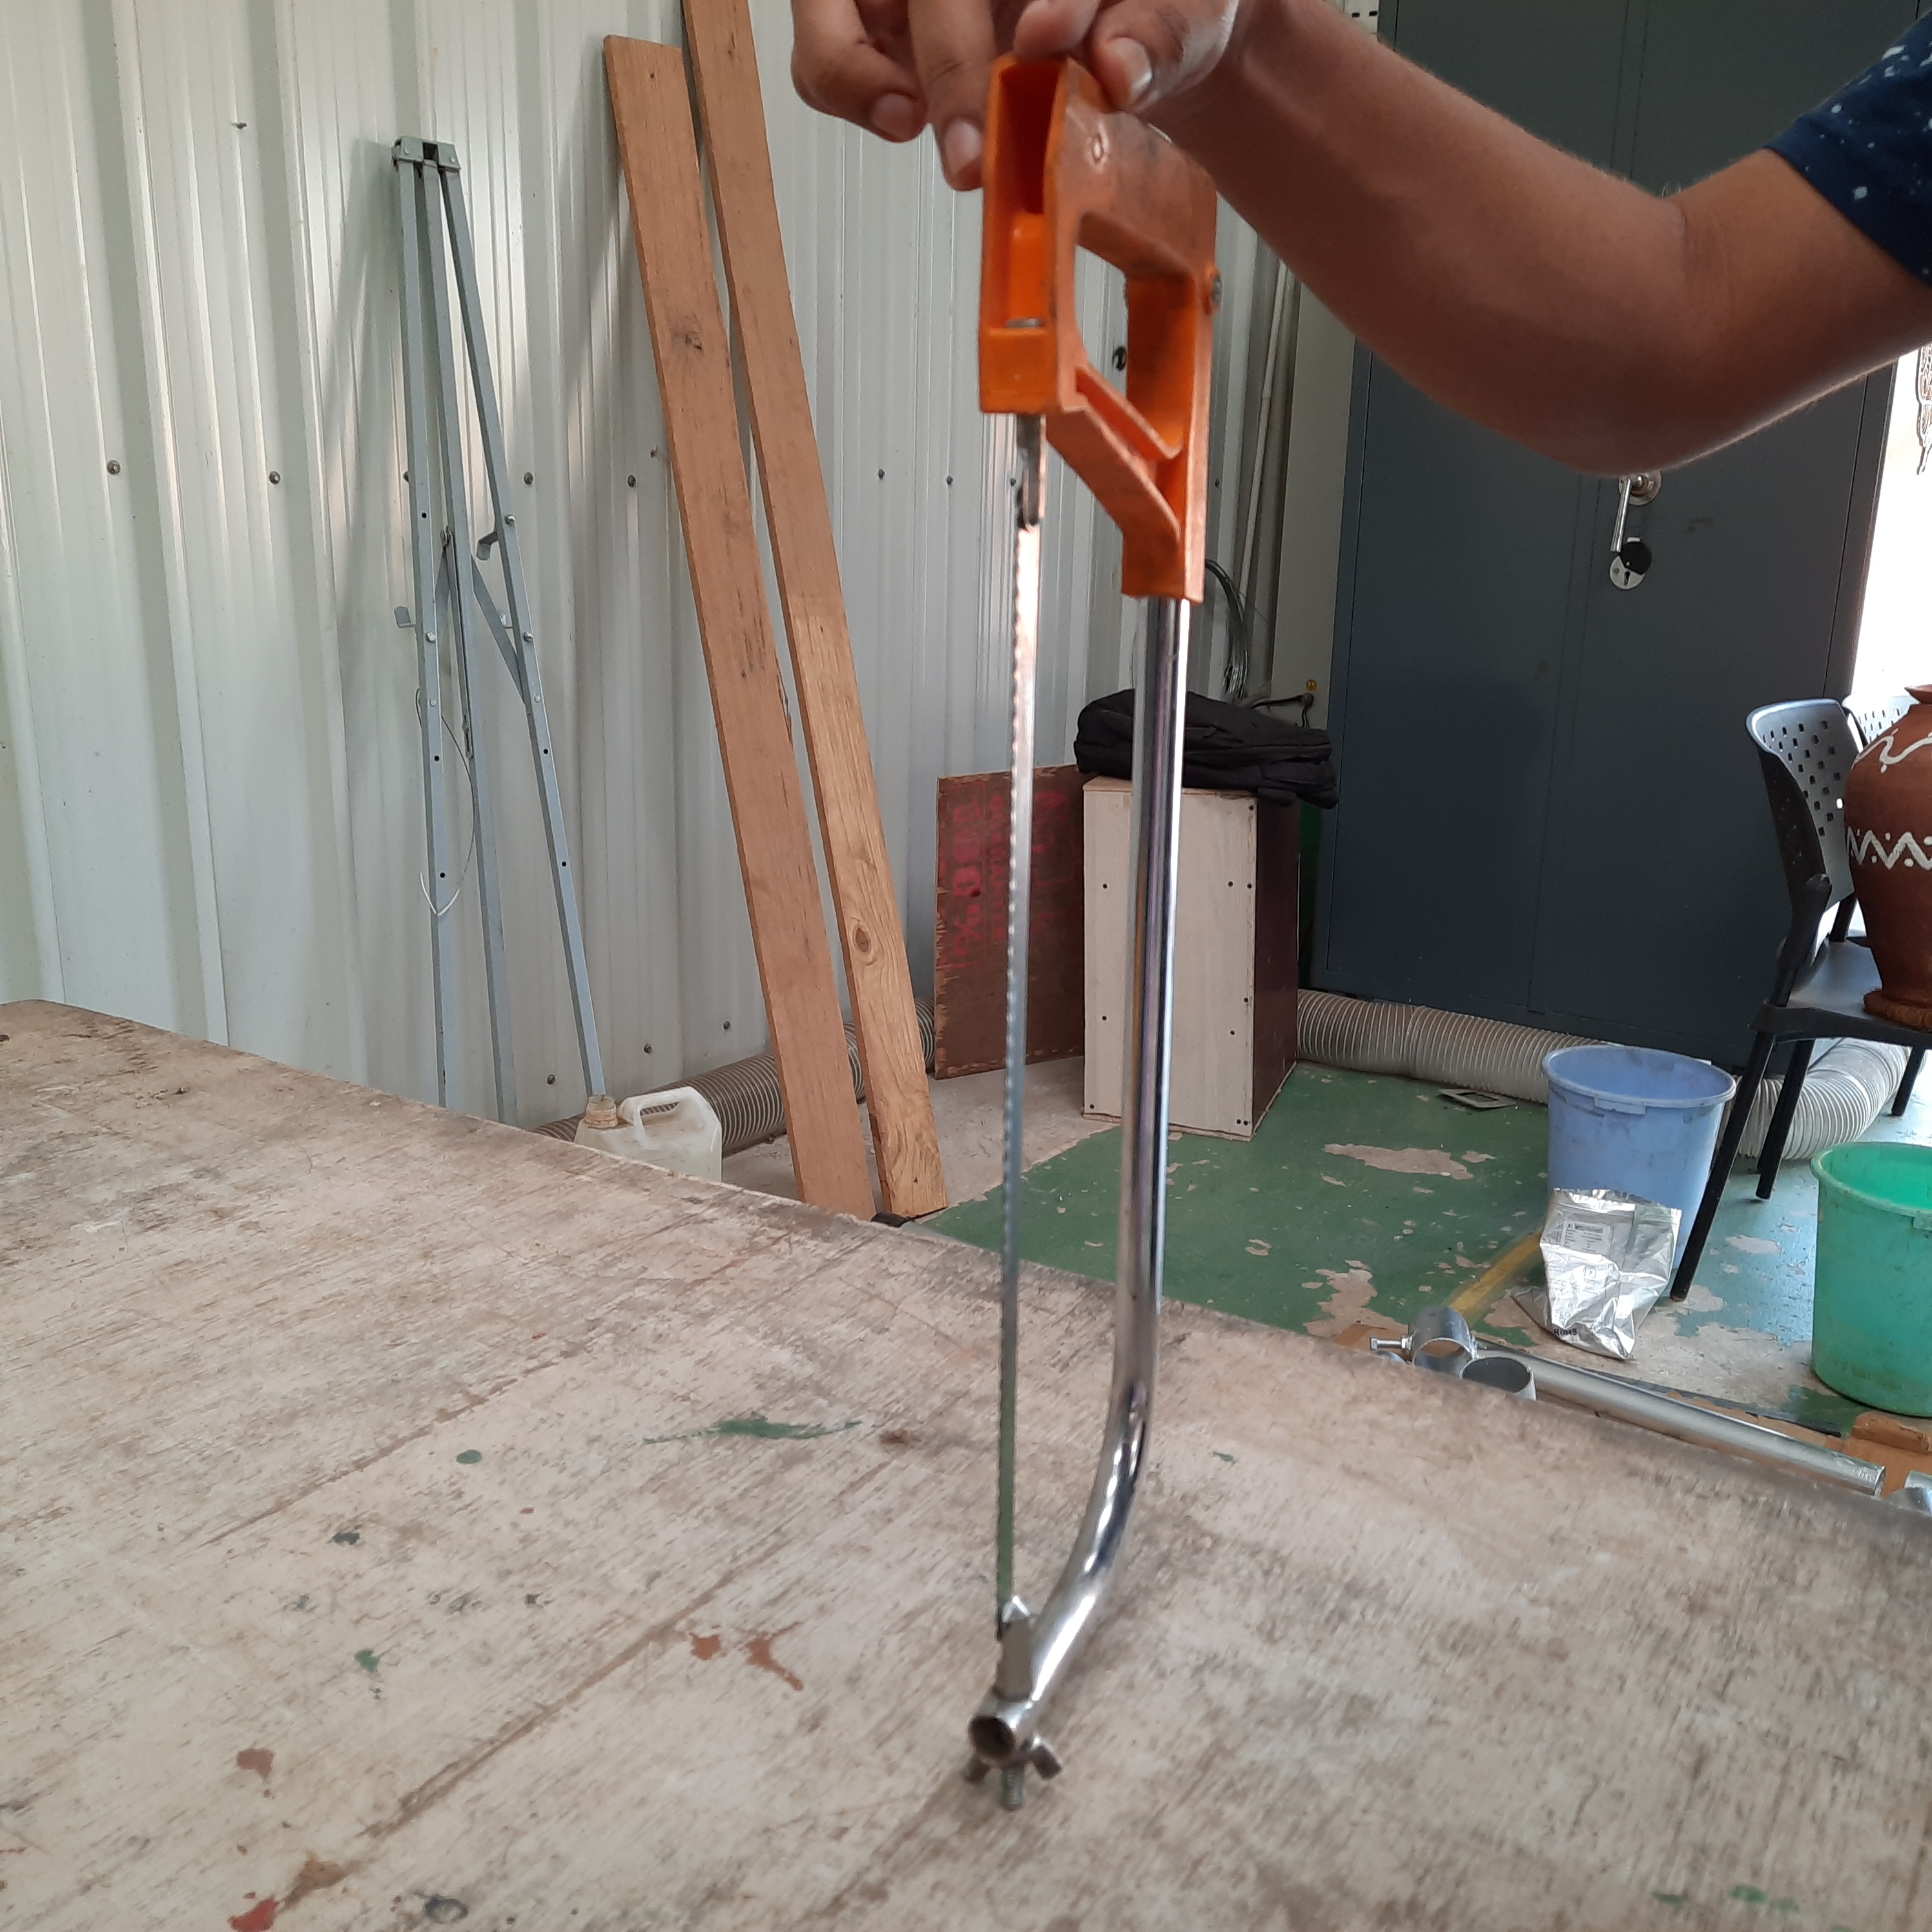Hexaframe: (925, 25, 1272, 1815)
